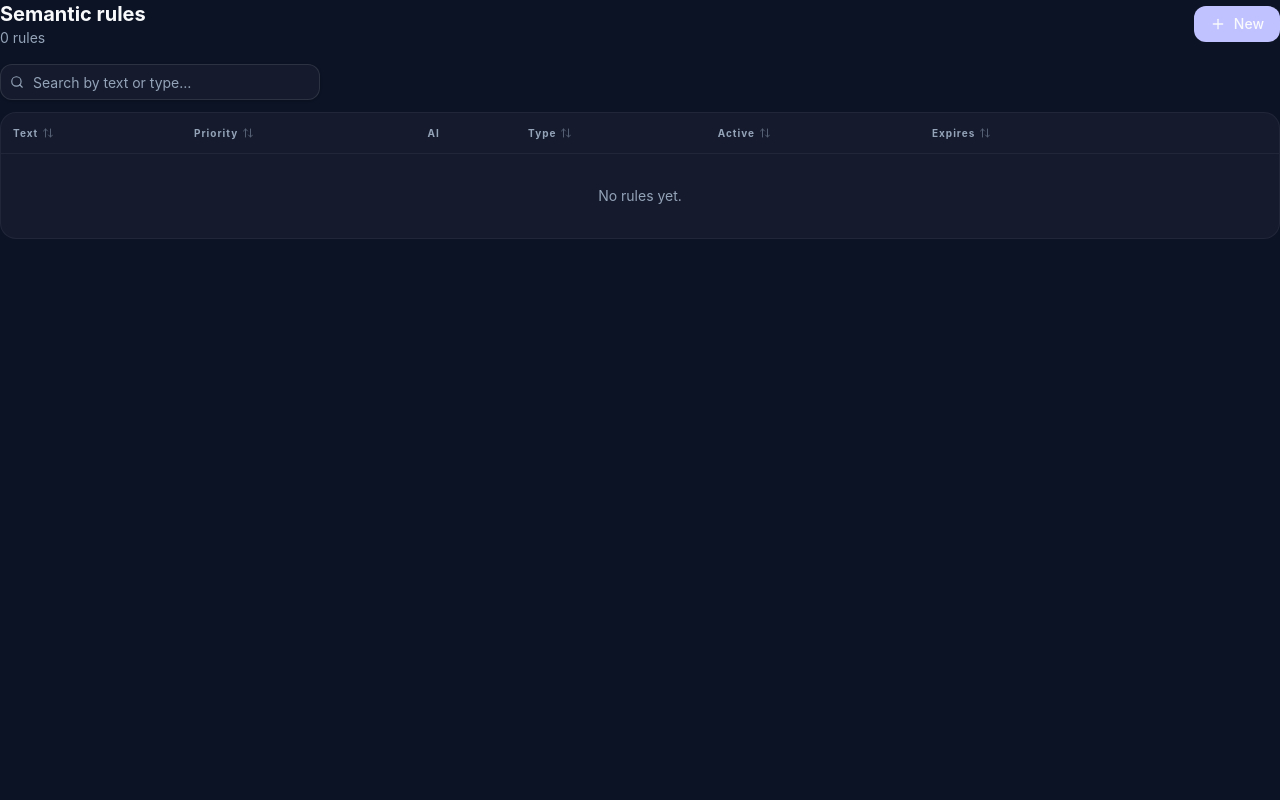
RulesPage › crea una regla end-to-end
Expected: the text "No rules yet." is shown, left=1, top=153, right=1279, bottom=238
Click the button with test id "new-rule-btn" at (1237, 24), box left=1194, top=6, right=1279, bottom=42
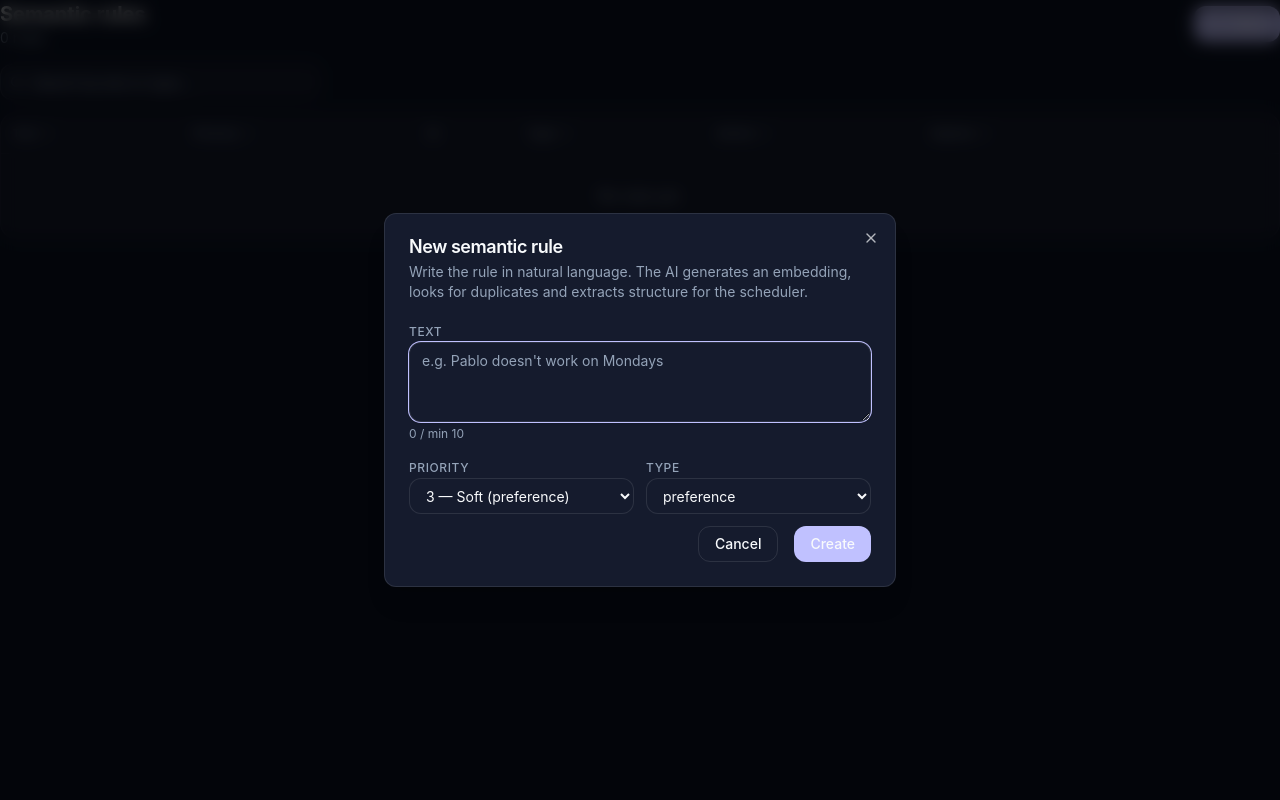
Type "Pablo no trabaja los lunes" into the text box with test id "r-text-input" at (640, 382), box left=409, top=342, right=871, bottom=422
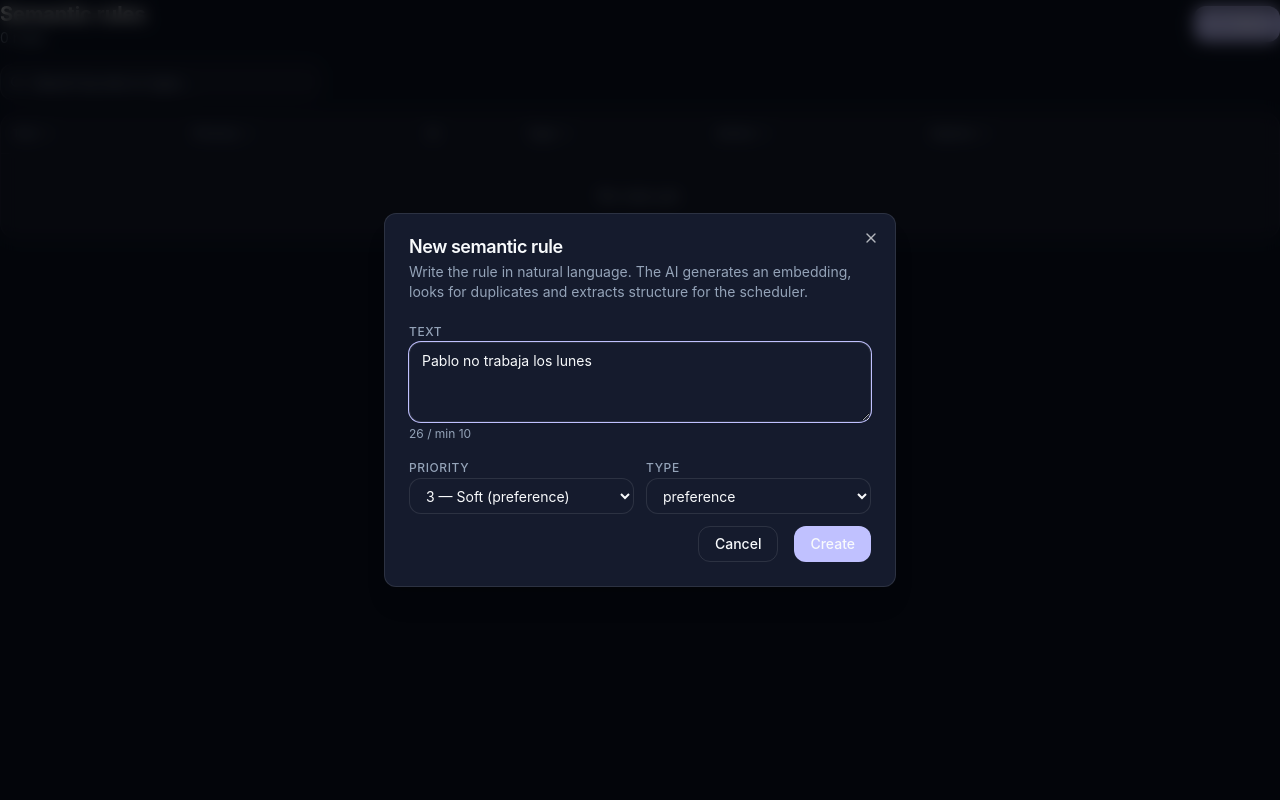
Select "2 — Hard" in the dropdown with test id "r-priority-select" at (522, 496), box left=409, top=478, right=634, bottom=514
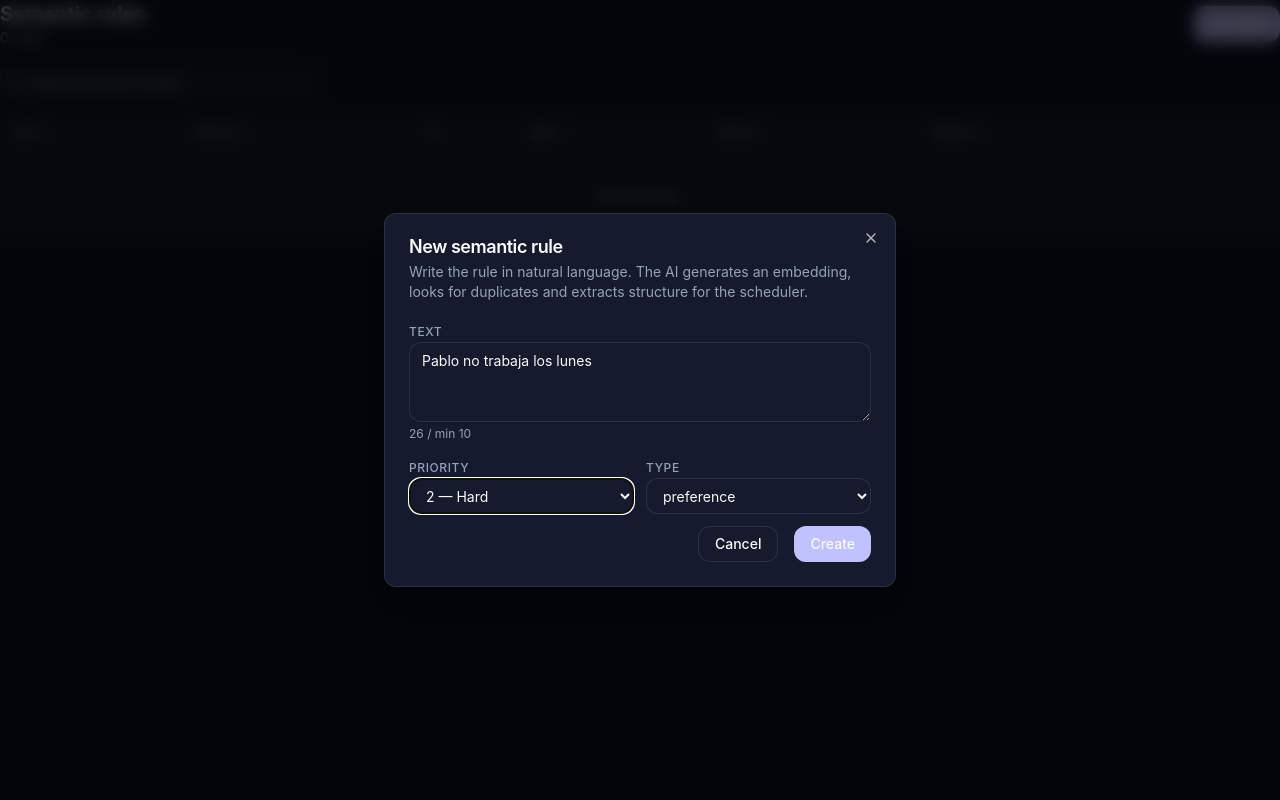
Select "restriction" in the dropdown with test id "r-type-select" at (758, 496), box left=646, top=478, right=871, bottom=514
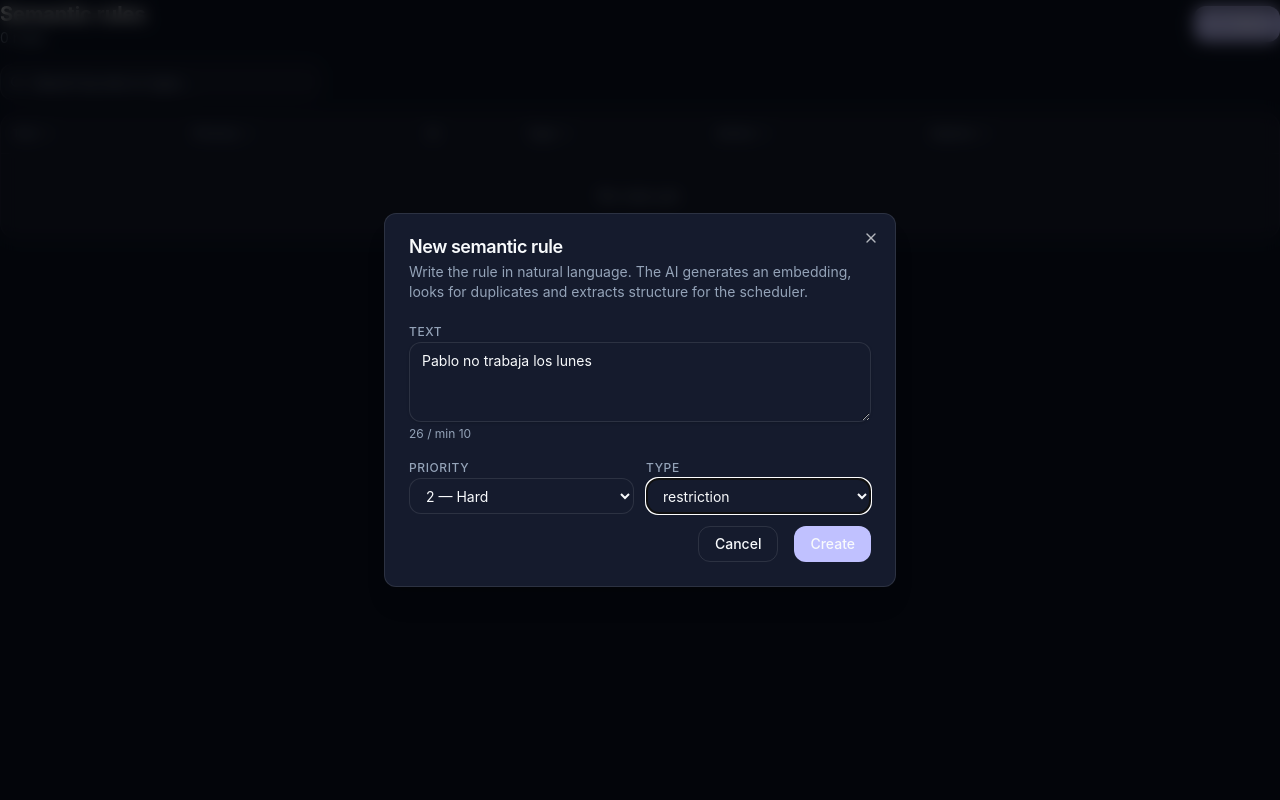
Click the button with test id "r-submit" at (833, 544), box left=794, top=526, right=871, bottom=562
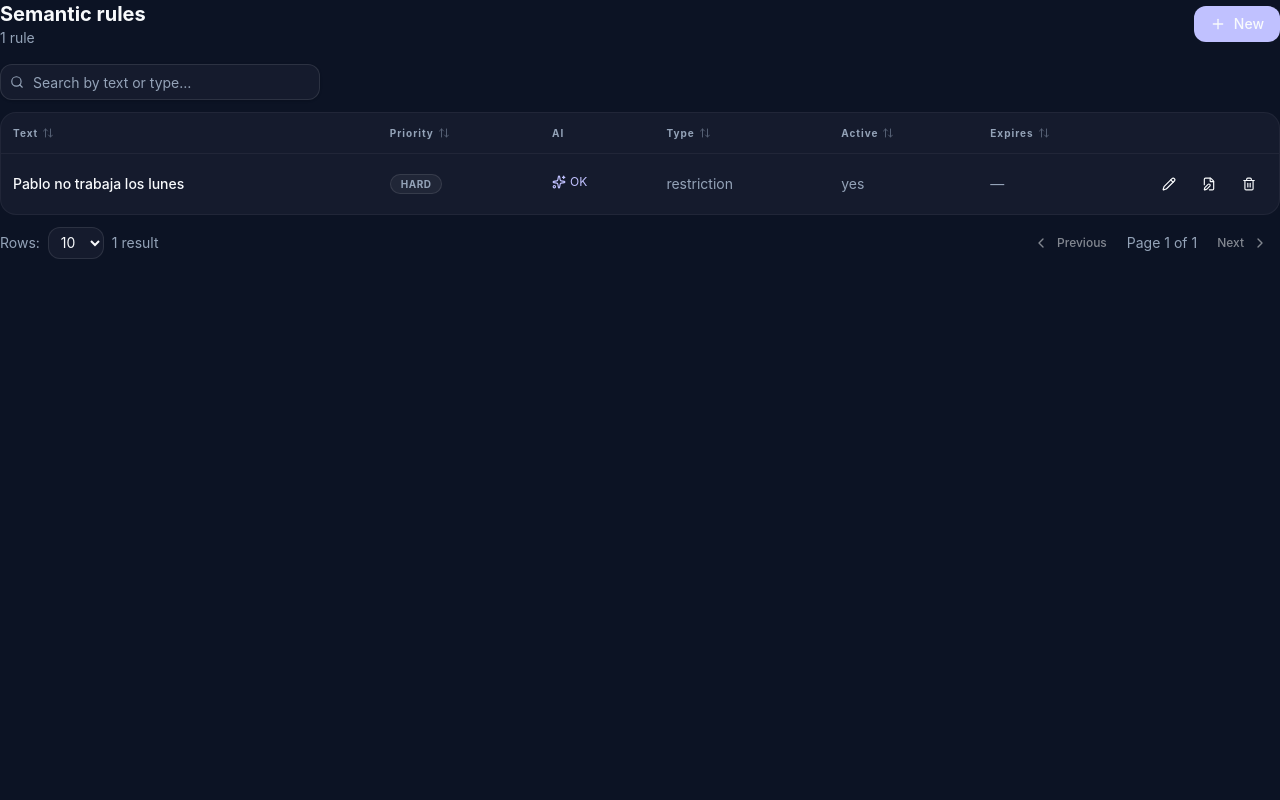
Expected: the text "Pablo no trabaja los lunes" is shown, left=13, top=174, right=184, bottom=192
